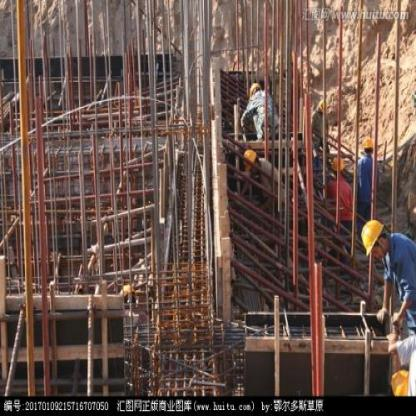helmet: (360, 218, 390, 262), (243, 148, 262, 174), (329, 152, 344, 176), (250, 80, 263, 104), (362, 138, 375, 160)
